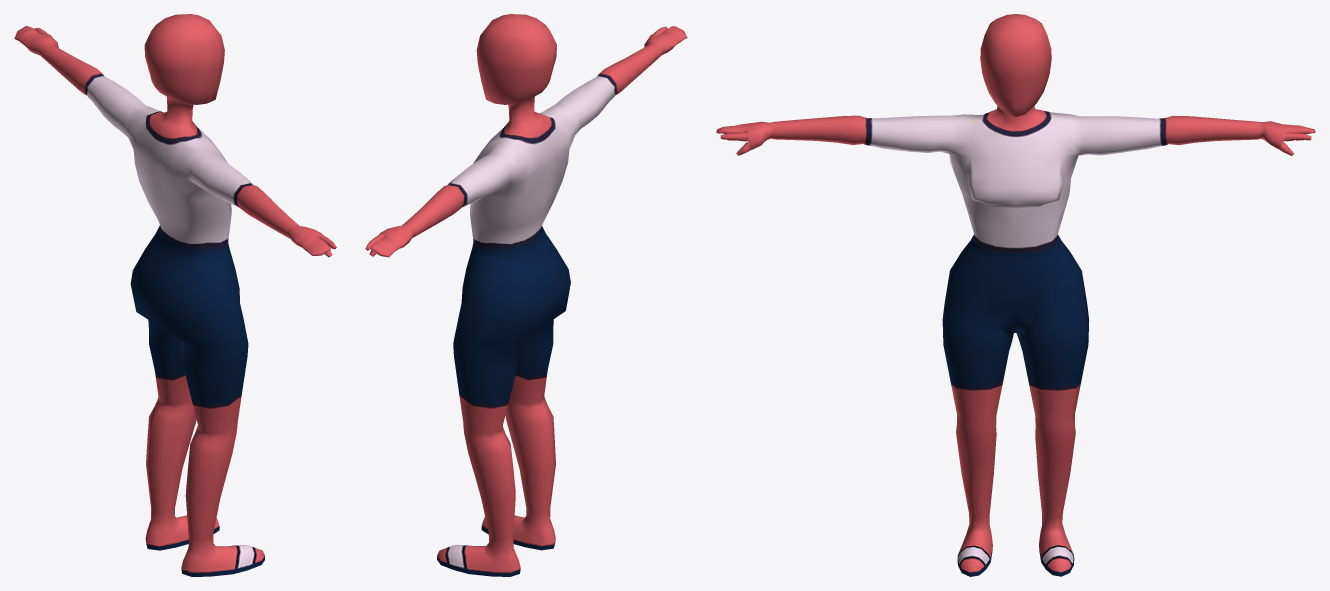
The model's file is scene_71KgpStS5G.glb.
3 views of the same model, side by side, from view 1: azimuth 30°, elevation 25°; view 2: azimuth 150°, elevation 25°; view 3: azimuth 270°, elevation 25° (orthographic).
Parts seen in each view (by area): view 1: mesh_char_115.005; view 2: mesh_char_115.005; view 3: mesh_char_115.005.
Boxes of the visible parts, box(x1,y1,x2,y2) form: mesh_char_115.005: box(14, 14, 336, 576); mesh_char_115.005: box(365, 14, 687, 576); mesh_char_115.005: box(716, 14, 1315, 576).
Bounding box in the file's own units: 0.7811 × 4.1 × 4.19.
Materials: 1 (1 with a texture image).
